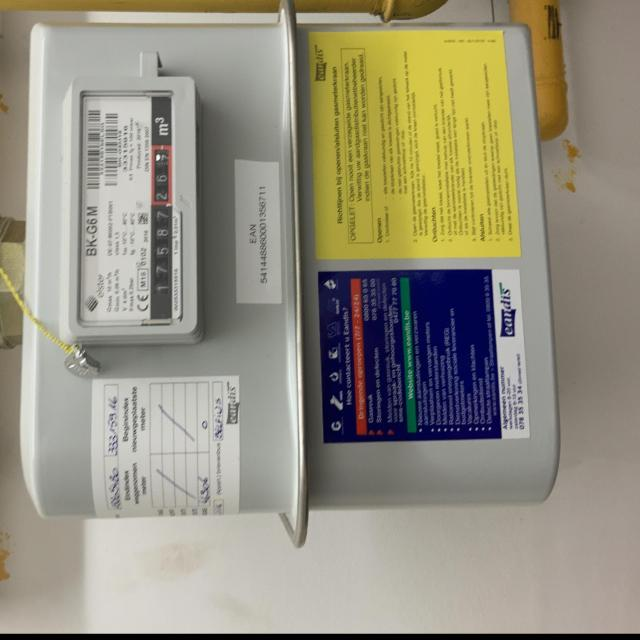gaz_meter: (77, 82, 194, 326)
indication: (150, 145, 172, 321)
